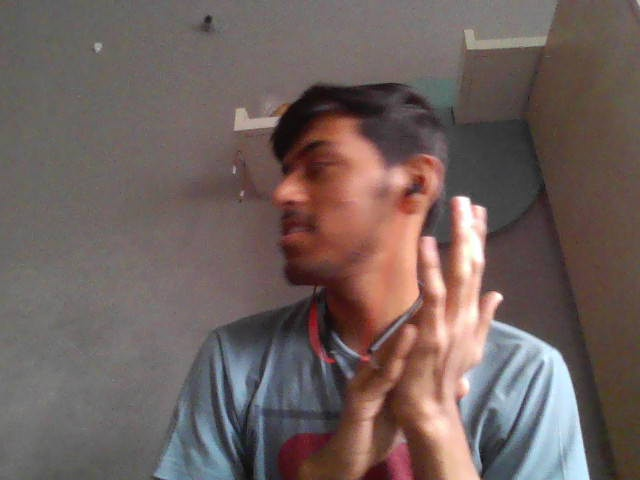No: (410, 192, 472, 309)
